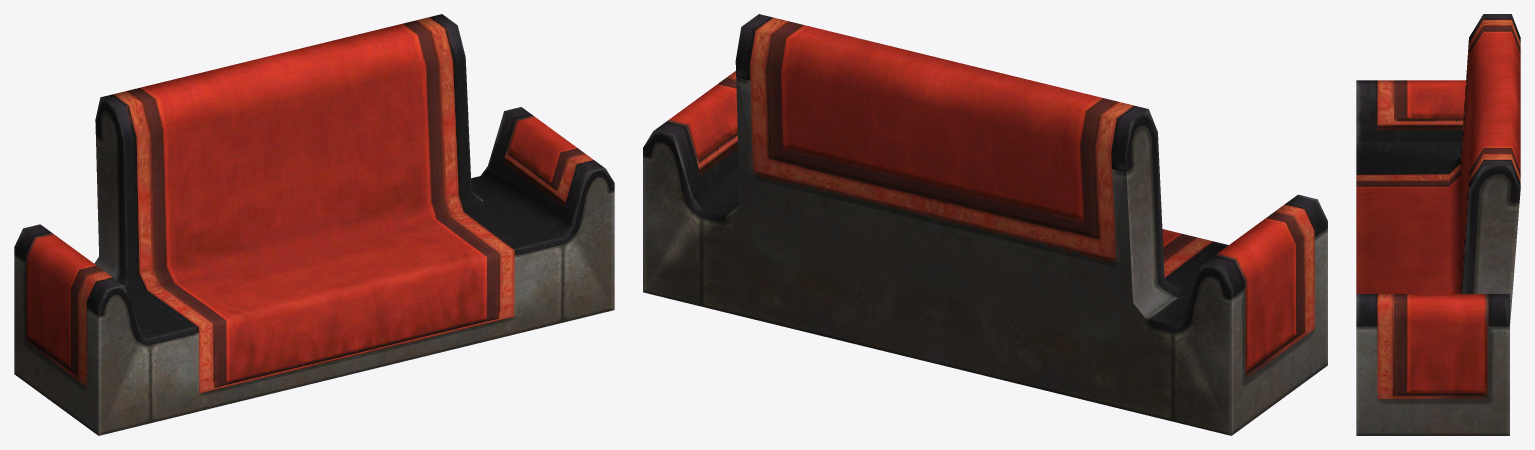
The model's file is frn_all_couch_lg_s1_l1.fbx.
3 views of the same model, side by side, from view 1: azimuth 30°, elevation 25°; view 2: azimuth 150°, elevation 25°; view 3: azimuth 270°, elevation 25° (orthographic). The views are drawn at different scales.
Parts seen in each view (by area): view 1: mesh_node; view 2: mesh_node; view 3: mesh_node.
Boxes of the visible parts, box(x1,y1,x2,y2) form: mesh_node: box(14, 14, 614, 435); mesh_node: box(643, 14, 1327, 435); mesh_node: box(1356, 14, 1520, 435).
Size of the model in its own units: 2.4 by 1.13 by 0.7282.
1 material, 1 textured.
